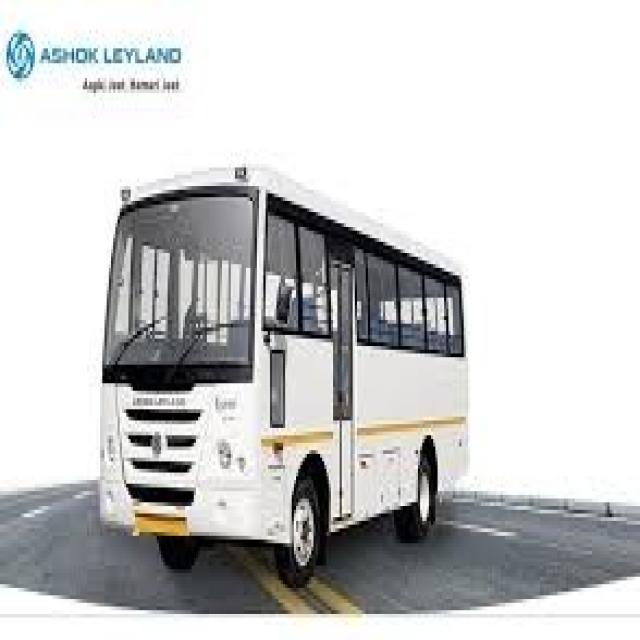bus: (84, 136, 480, 576)
